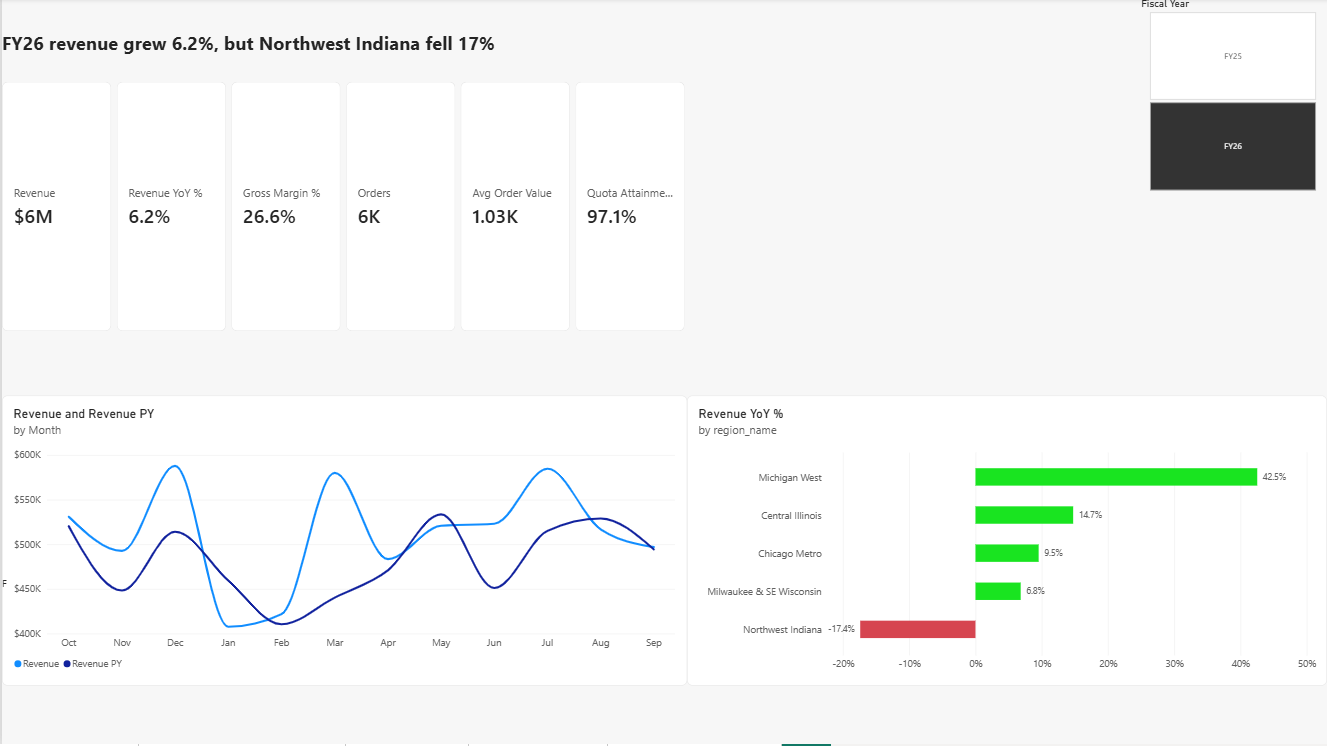

This screenshot's page, from the dashboard's own definition file:
{"tool":"powerbi","page":{"name":"Executive Summary","canvas":[1920,1080],"ordinal":0},"visuals":[{"type":"slicer","fields":{"Values":["dim_date.Fiscal Year"]},"box":[1641.4,0,280,280],"z":0},{"type":"cardVisual","fields":{"Data":["Key Measures.Revenue","Key Measures.Revenue YoY %","Key Measures.Gross Margin %","Key Measures.Orders","Key Measures.Avg Order Value","Key Measures.Quota Attainment %"]},"box":[0,121.2,991.7,361.9],"z":1},{"type":"lineChart","fields":{"Category":["dim_date.Month"],"Y":["Key Measures.Revenue","Key Measures.Revenue PY"]},"box":[0,575.5,991.7,419.8],"z":3},{"type":"clusteredBarChart","fields":{"Category":["dim_regions.region_name"],"Y":["Key Measures.Revenue YoY %"]},"box":[991.7,575.5,928.4,419.8],"z":4},{"type":"textbox","box":[0,838.5,811,210],"z":5},{"type":"textbox","box":[0,47.1,901.2,74.2],"z":6}]}

Visuals, with their boxes in screenshot pixels (x1, y1, x2, y2), scaled from the page's 1920x1080 canvas onto the 1327x746 screenshot:
slicer - dim_date.Fiscal Year: {"left": 1134, "top": 0, "right": 1326, "bottom": 193}
cardVisual - Key Measures.Revenue x Key Measures.Revenue YoY %: {"left": 0, "top": 84, "right": 685, "bottom": 334}
lineChart - dim_date.Month x Key Measures.Revenue: {"left": 0, "top": 398, "right": 685, "bottom": 687}
clusteredBarChart - dim_regions.region_name x Key Measures.Revenue YoY %: {"left": 685, "top": 398, "right": 1326, "bottom": 687}
textbox: {"left": 0, "top": 579, "right": 561, "bottom": 724}
textbox: {"left": 0, "top": 33, "right": 623, "bottom": 84}
